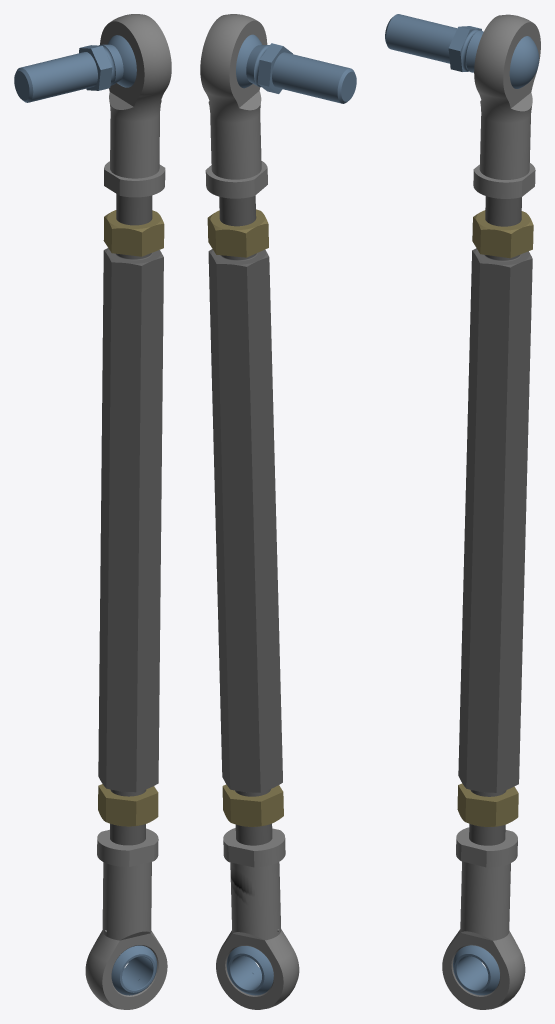
The model's file is r_roll_static_link.dae.
The picture shows the model from 3 angles, left to right: view 1: azimuth 30°, elevation 25°; view 2: azimuth 150°, elevation 25°; view 3: azimuth 330°, elevation 25°; orthographic projection.
Parts seen in each view (by area): view 1: LBRFNF20-480-80_r.001, 사본 LHS 20 Body1^LHS20.001, E-GYN20_h.001, 사본 LHS 20 Body2^LHS20.001, LBRBFF20_n.002, LBRBFF20_n.001, E-GYN20_b.001; view 2: LBRFNF20-480-80_r.001, 사본 LHS 20 Body1^LHS20.001, E-GYN20_h.001, 사본 LHS 20 Body2^LHS20.001, LBRBFF20_n.002, LBRBFF20_n.001, E-GYN20_b.001; view 3: LBRFNF20-480-80_r.001, 사본 LHS 20 Body1^LHS20.001, E-GYN20_h.001, 사본 LHS 20 Body2^LHS20.001, LBRBFF20_n.002, LBRBFF20_n.001, E-GYN20_b.001.
Part boxes in pixels (bbox=[...]): LBRFNF20-480-80_r.001: bbox=[98, 194, 163, 845]; 사본 LHS 20 Body1^LHS20.001: bbox=[100, 14, 171, 197]; E-GYN20_h.001: bbox=[85, 828, 167, 1009]; 사본 LHS 20 Body2^LHS20.001: bbox=[14, 35, 136, 102]; LBRBFF20_n.002: bbox=[103, 210, 164, 256]; LBRBFF20_n.001: bbox=[98, 784, 158, 826]; E-GYN20_b.001: bbox=[111, 945, 157, 995]; LBRFNF20-480-80_r.001: bbox=[208, 195, 282, 845]; 사본 LHS 20 Body1^LHS20.001: bbox=[200, 14, 267, 198]; E-GYN20_h.001: bbox=[216, 828, 299, 1009]; 사본 LHS 20 Body2^LHS20.001: bbox=[236, 34, 356, 103]; LBRBFF20_n.002: bbox=[207, 209, 268, 257]; LBRBFF20_n.001: bbox=[222, 784, 283, 826]; E-GYN20_b.001: bbox=[226, 946, 273, 995]; LBRFNF20-480-80_r.001: bbox=[458, 196, 532, 845]; 사본 LHS 20 Body1^LHS20.001: bbox=[473, 14, 540, 198]; E-GYN20_h.001: bbox=[442, 827, 525, 1009]; 사본 LHS 20 Body2^LHS20.001: bbox=[385, 14, 539, 88]; LBRBFF20_n.002: bbox=[472, 210, 533, 258]; LBRBFF20_n.001: bbox=[457, 783, 518, 826]; E-GYN20_b.001: bbox=[453, 945, 499, 995].
Bounding box in the file's own units: 0.0904 × 0.0489 × 0.5989.
1 material, 1 textured.
